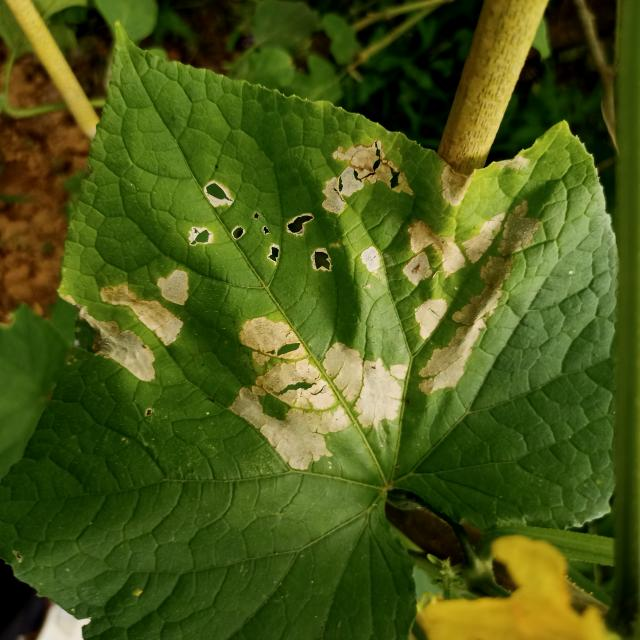disease_cucumber: (77, 144, 537, 470)
